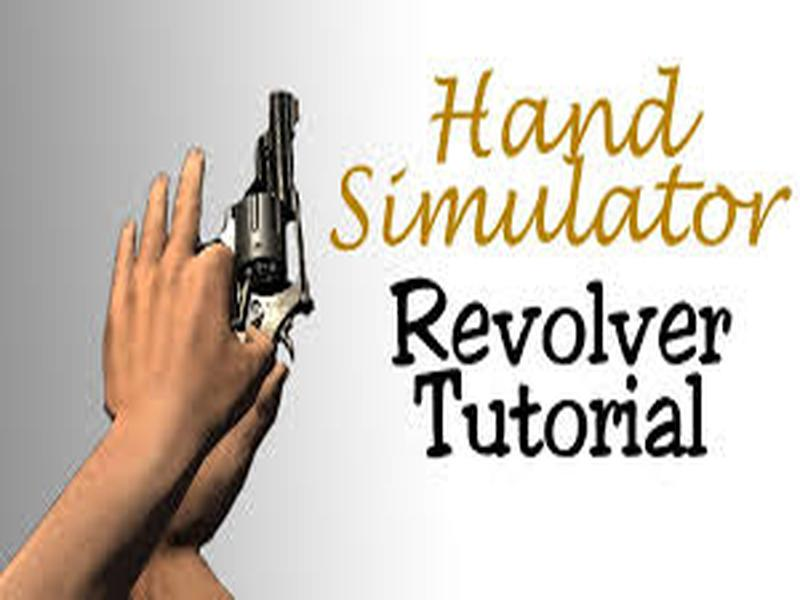gun: (3, 88, 315, 600)
